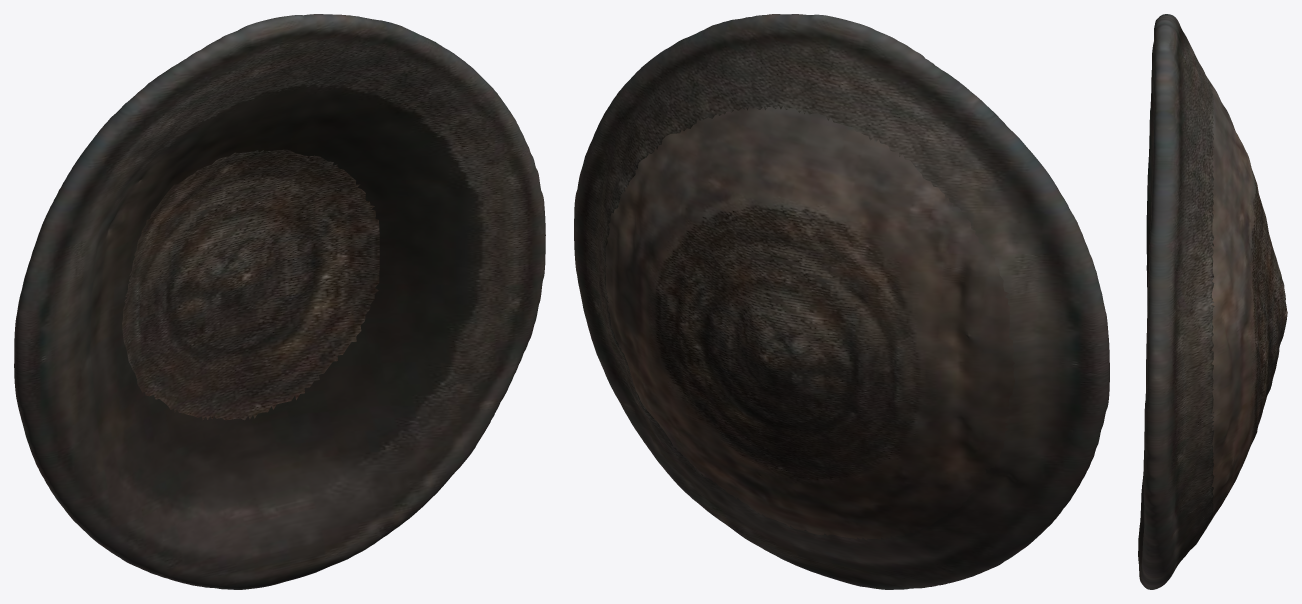
Rendered from kfl-2312.glb.
The picture shows the model from 3 angles, left to right: view 1: azimuth 30°, elevation 25°; view 2: azimuth 150°, elevation 25°; view 3: azimuth 270°, elevation 25°; orthographic projection. The views are drawn at different scales.
Visible parts, largest first — view 1: geometry_0; view 2: geometry_0; view 3: geometry_0.
Part boxes in pixels (<box>): geometry_0: <box>14,14,545,589</box>; geometry_0: <box>574,14,1109,589</box>; geometry_0: <box>1138,14,1287,589</box>.
Size of the model in its own units: 0.9825 by 0.9955 by 0.256.
1 material, 1 textured.
